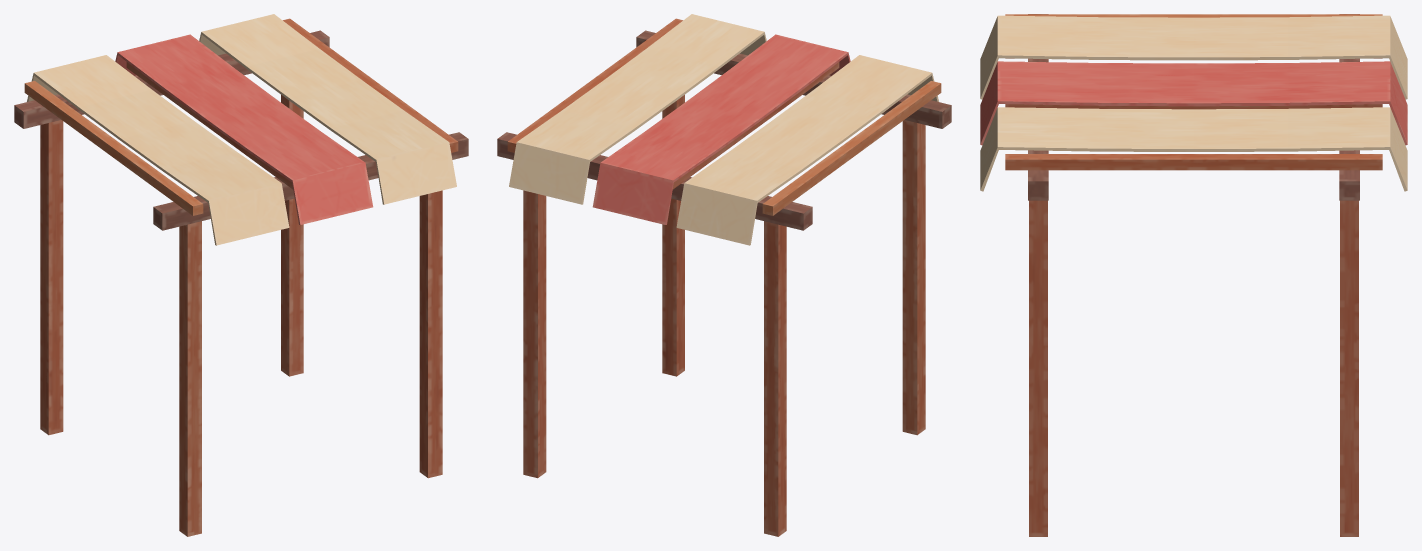
File: pergola.bundle.fbx
The picture shows the model from 3 angles, left to right: view 1: azimuth 30°, elevation 25°; view 2: azimuth 150°, elevation 25°; view 3: azimuth 270°, elevation 25°; orthographic projection. The views are drawn at different scales.
Parts seen in each view (by area): view 1: pergola, pergola_low, pergola_s05, pergola_s00, pergola_s02, pergola_s07, pergola_s03, pergola_s04; view 2: pergola, pergola_low, pergola_s05, pergola_s03, pergola_s02, pergola_s00, pergola_s06, pergola_s07, pergola_s04; view 3: pergola, pergola_s00, pergola_s05, pergola_low, pergola_s03, pergola_s02.
Part boxes in pixels (bbox=[...]): pergola: bbox=[15, 14, 467, 534]; pergola_low: bbox=[14, 30, 468, 536]; pergola_s05: bbox=[15, 56, 251, 258]; pergola_s00: bbox=[221, 75, 468, 309]; pergola_s02: bbox=[136, 156, 258, 475]; pergola_s07: bbox=[40, 247, 63, 434]; pergola_s03: bbox=[218, 19, 366, 310]; pergola_s04: bbox=[419, 297, 442, 477]; pergola: bbox=[498, 14, 945, 534]; pergola_low: bbox=[497, 30, 951, 536]; pergola_s05: bbox=[597, 99, 886, 353]; pergola_s03: bbox=[498, 84, 665, 405]; pergola_s02: bbox=[829, 72, 949, 367]; pergola_s00: bbox=[587, 19, 876, 200]; pergola_s06: bbox=[902, 350, 925, 434]; pergola_s07: bbox=[764, 347, 786, 536]; pergola_s04: bbox=[662, 201, 684, 375]; pergola: bbox=[980, 14, 1407, 535]; pergola_s00: bbox=[980, 34, 1246, 345]; pergola_s05: bbox=[1122, 14, 1407, 139]; pergola_low: bbox=[1028, 14, 1359, 536]; pergola_s03: bbox=[1197, 102, 1407, 467]; pergola_s02: bbox=[980, 14, 1127, 81].
Size of the model in its own units: 8.4 by 9.03 by 9.07.
1 material, 1 textured.
